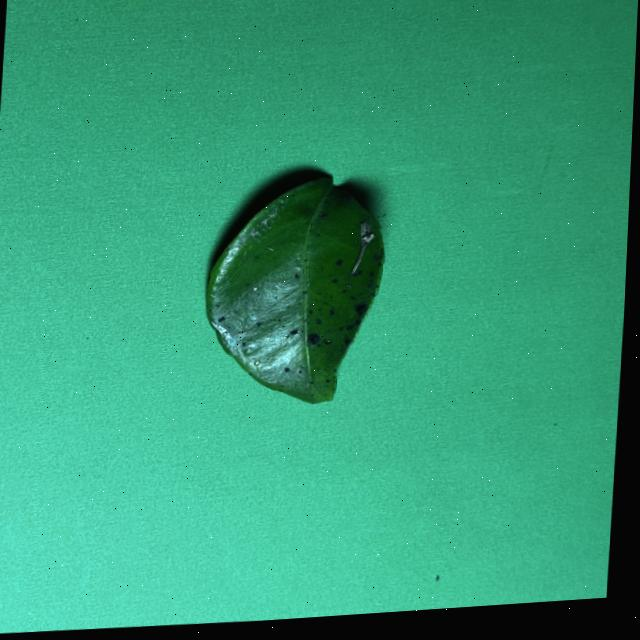sooty_mold: (205, 177, 383, 402)
